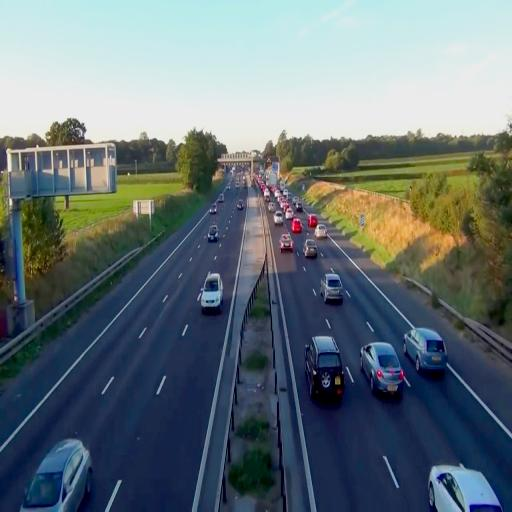vehicle: (20, 437, 92, 511), (427, 464, 501, 512), (359, 342, 405, 397), (306, 334, 344, 399), (403, 326, 447, 374), (199, 272, 223, 312), (322, 271, 343, 305), (304, 238, 318, 259), (280, 232, 294, 253), (206, 225, 220, 243), (274, 210, 284, 224)
